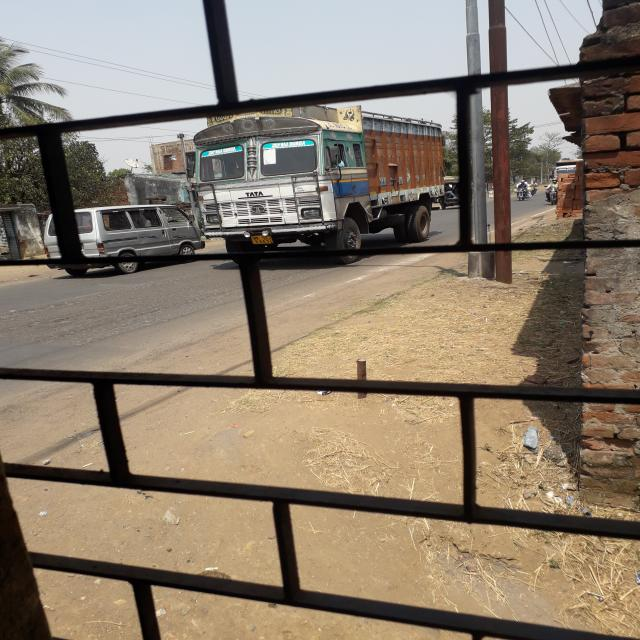Bike: (514, 185, 536, 203), (545, 180, 558, 208), (526, 180, 540, 199)
Car: (29, 210, 202, 269)
Truck: (180, 100, 465, 252), (551, 157, 581, 179)
tempo: (439, 176, 469, 211)
